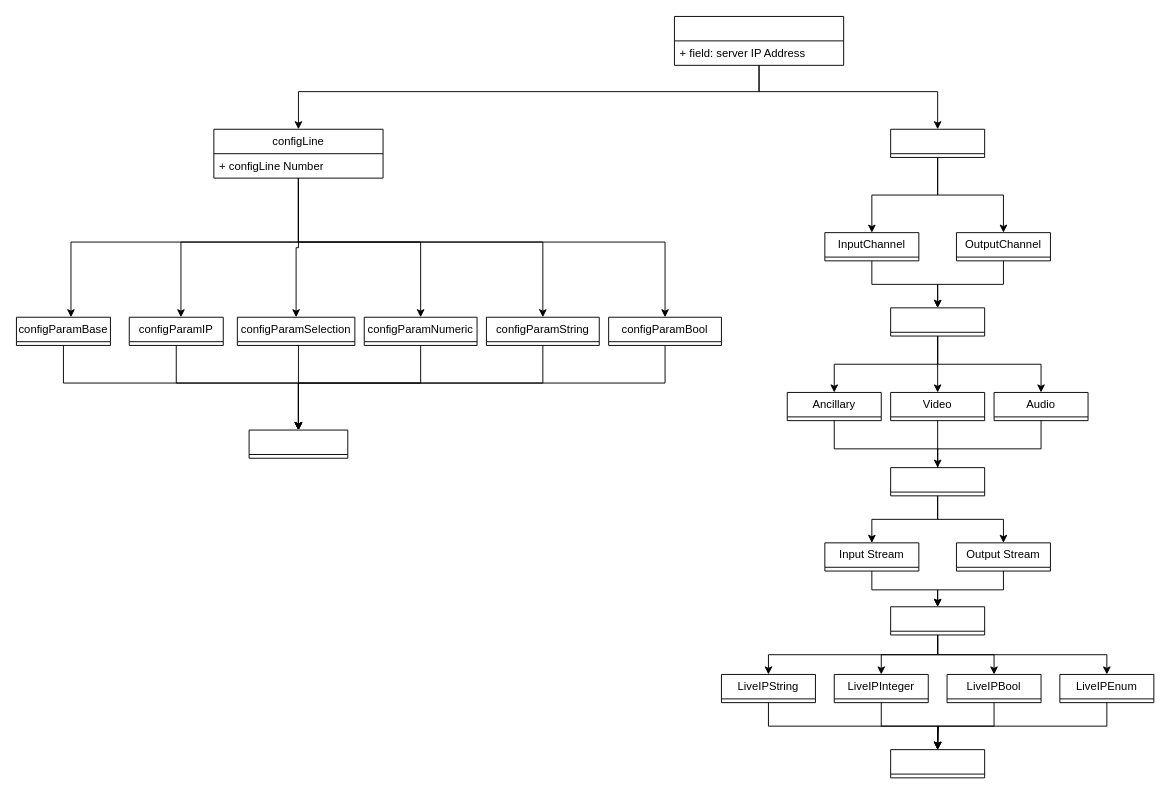
This 1170x794 diagram has some shape labels left out. Each missing label, with the box of its shape:
Channel: (890, 307, 985, 336)
configParamRaw: (248, 429, 348, 458)
LiveIPBase: (890, 749, 985, 778)
LiveIPConfig: (890, 128, 985, 157)
Media: (890, 467, 985, 496)
Stream: (890, 606, 985, 635)
xtviaServer: (674, 16, 844, 65)
